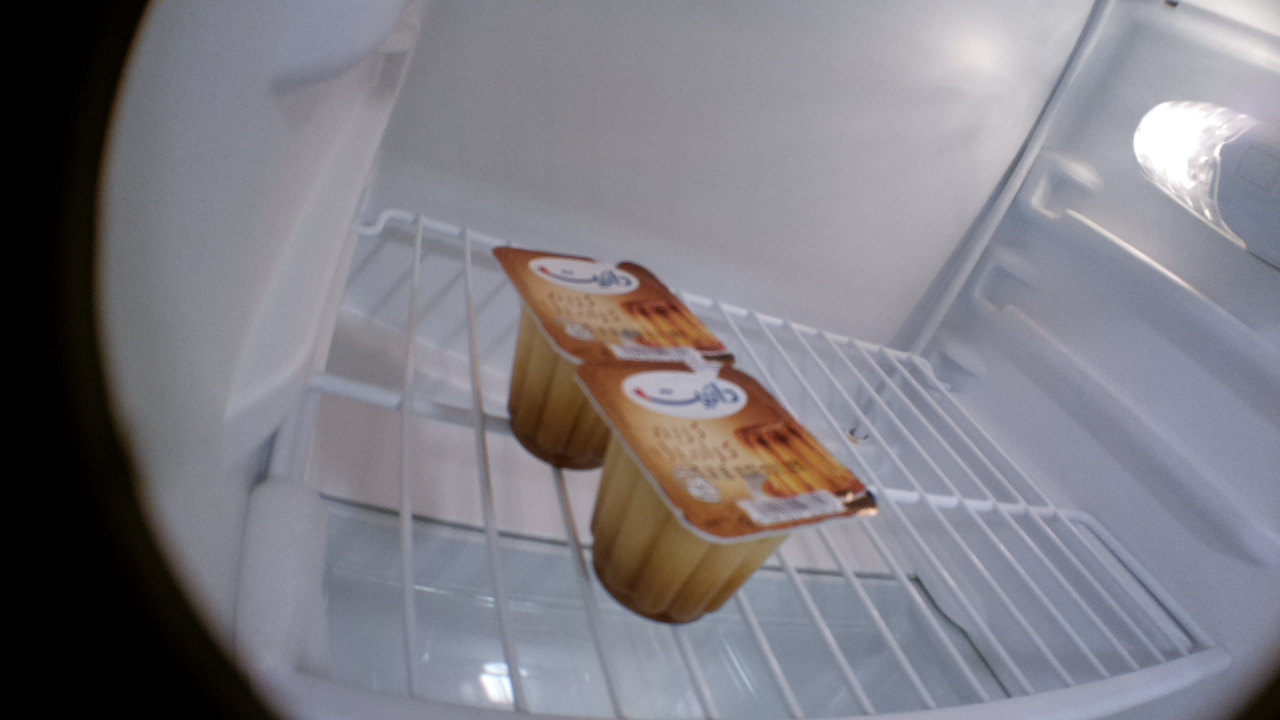caramel: (586, 365, 880, 628), (487, 244, 693, 470)
